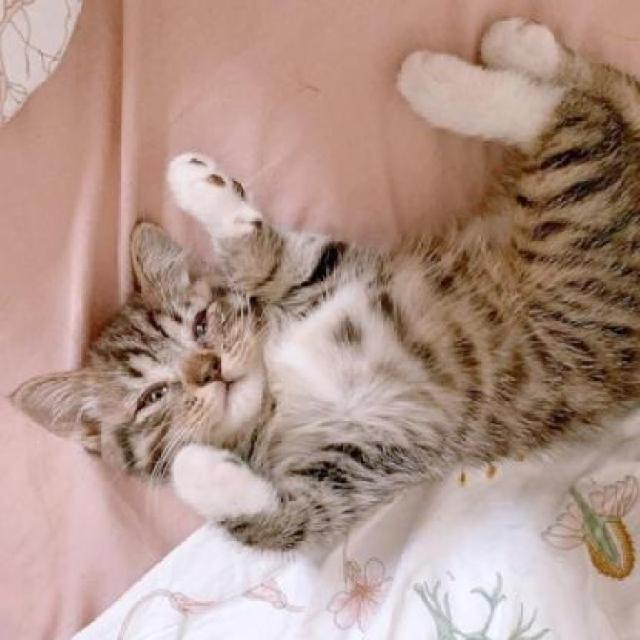cat: (12, 66, 640, 534)
